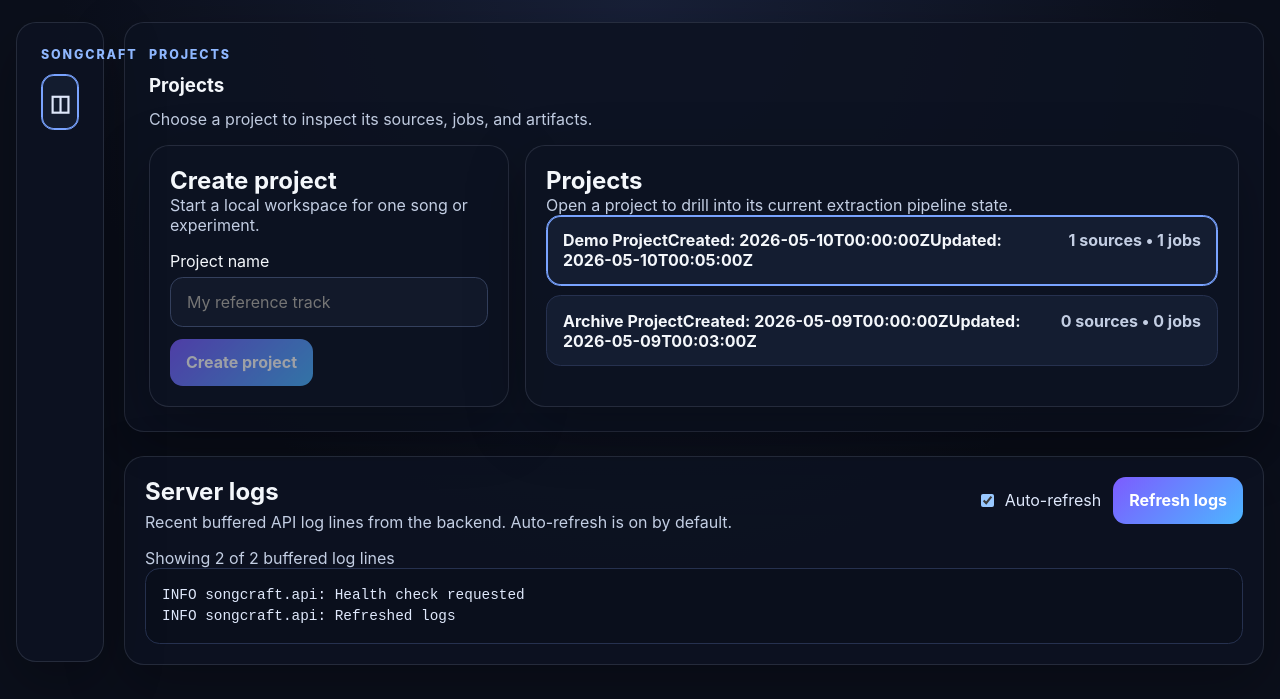
Scenario: App › updates source-ingest persistence guidance when the source type changes
This screenshot has width=1280, height=699.
Click the button with aria-label "Open project Demo Project" at coordinates (882, 250), box [546,215,1218,286]
(page scrolled)
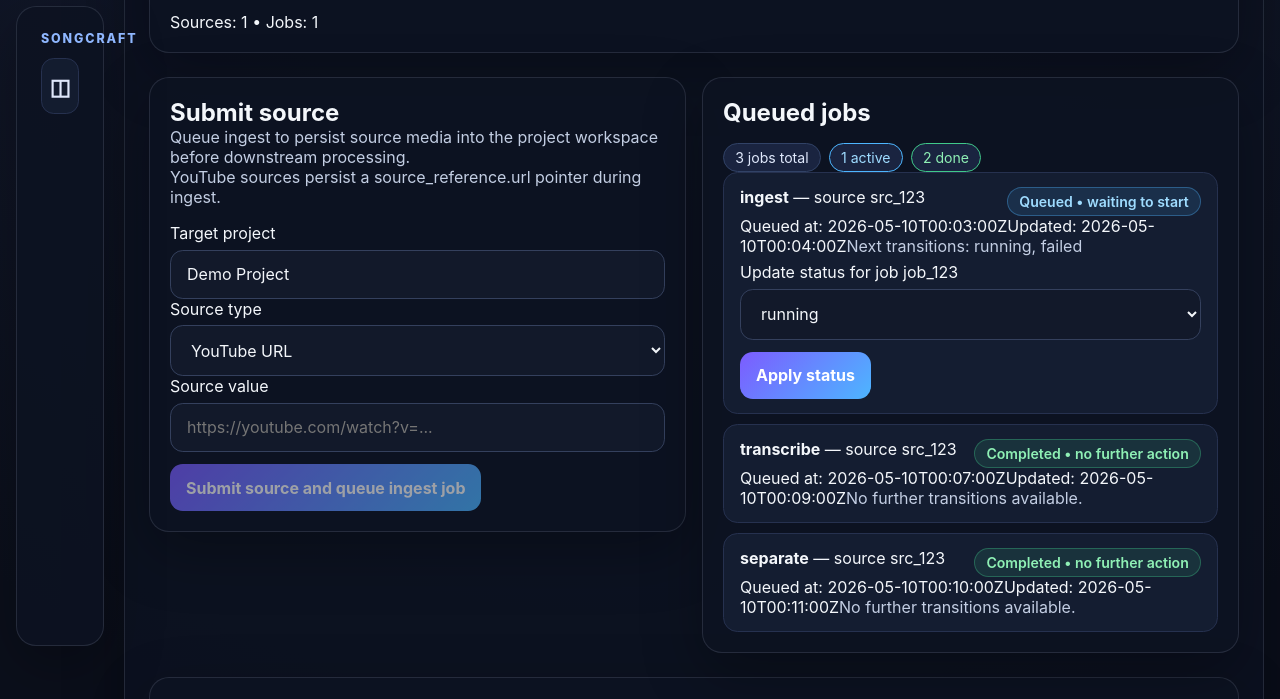
expect the text "YouTube sources persist a source_reference.url pointer during ingest." is shown: met, box [170,167,665,207]
Select "Local file path" in the dropdown labelled "Source type" at coordinates (418, 351), box [170,325,665,376]
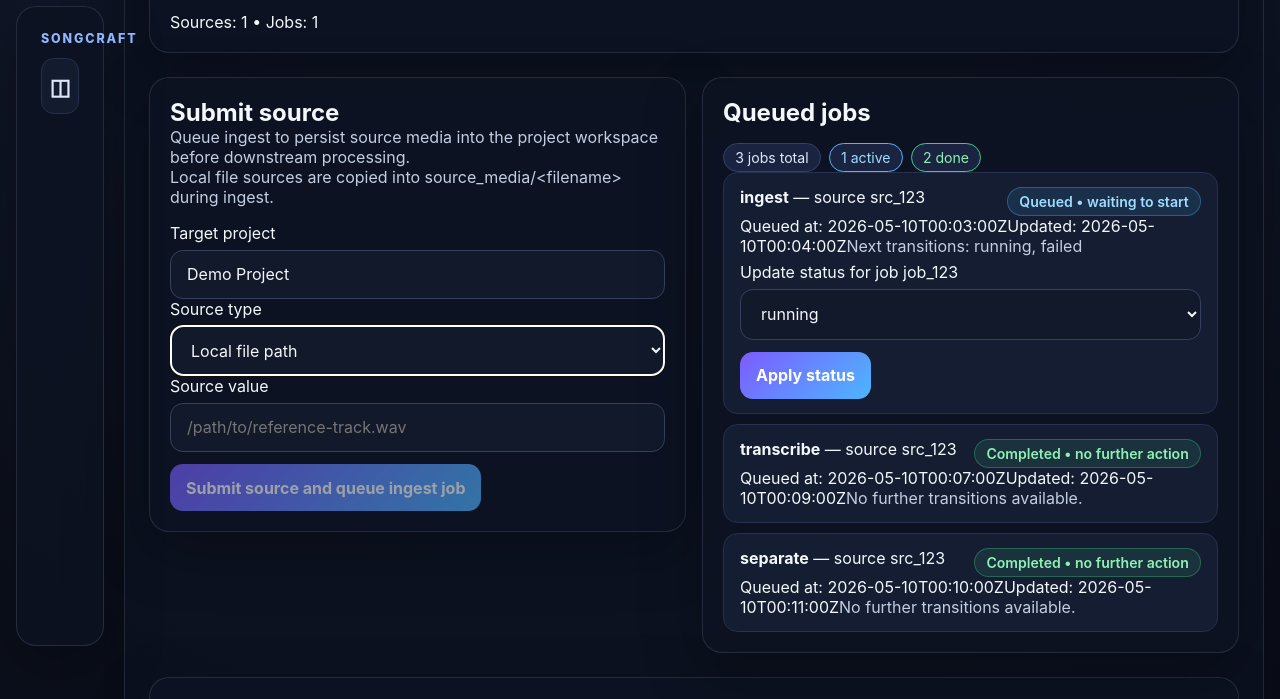
expect the text "Local file sources are copied into source_media/<filename> during ingest." is shown: met, box [170,167,665,207]
Select "Uploaded file" in the dropdown labelled "Source type" at coordinates (418, 351), box [170,325,665,376]
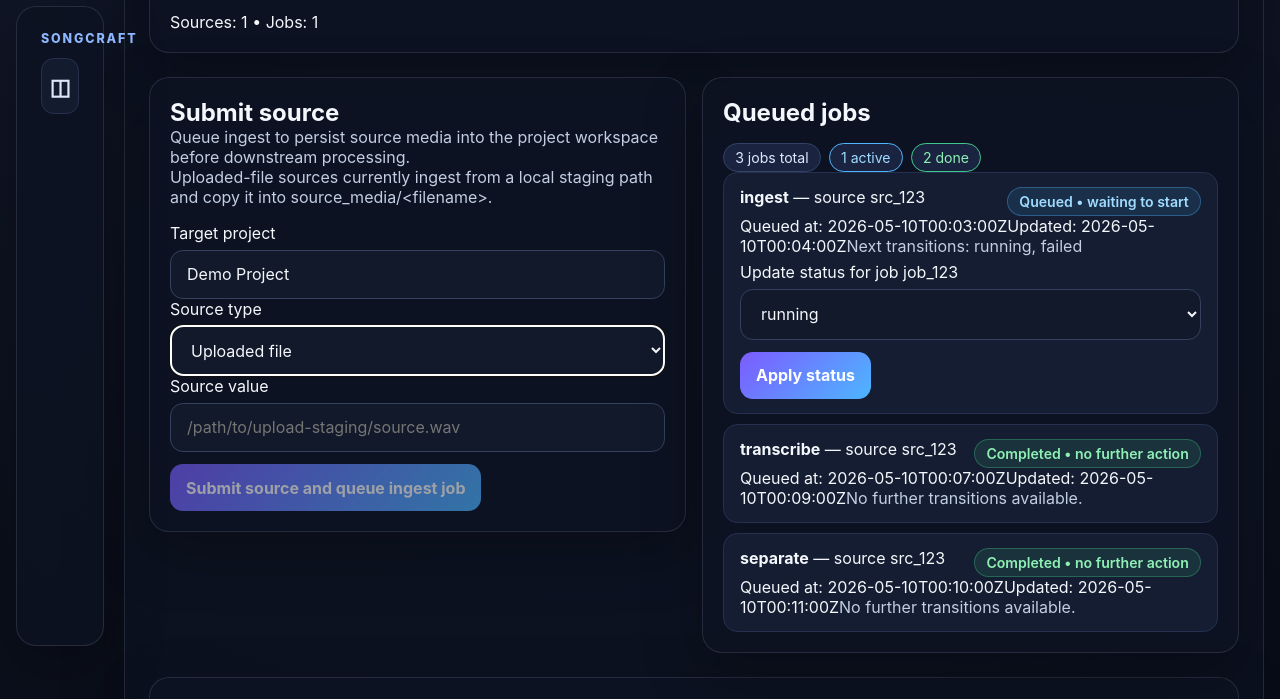
expect the text "Uploaded-file sources currently ingest from a local staging path and copy it into source_media/<filename>." is shown: met, box [170,167,653,207]
